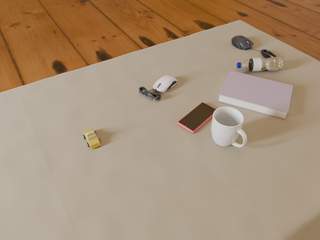book: (218, 71, 293, 119)
bottle: (237, 57, 283, 71)
cup: (211, 107, 247, 147)
mouse: (153, 75, 177, 92), (232, 36, 254, 50)
phone: (177, 102, 216, 133)
toy_car: (83, 129, 101, 149)
